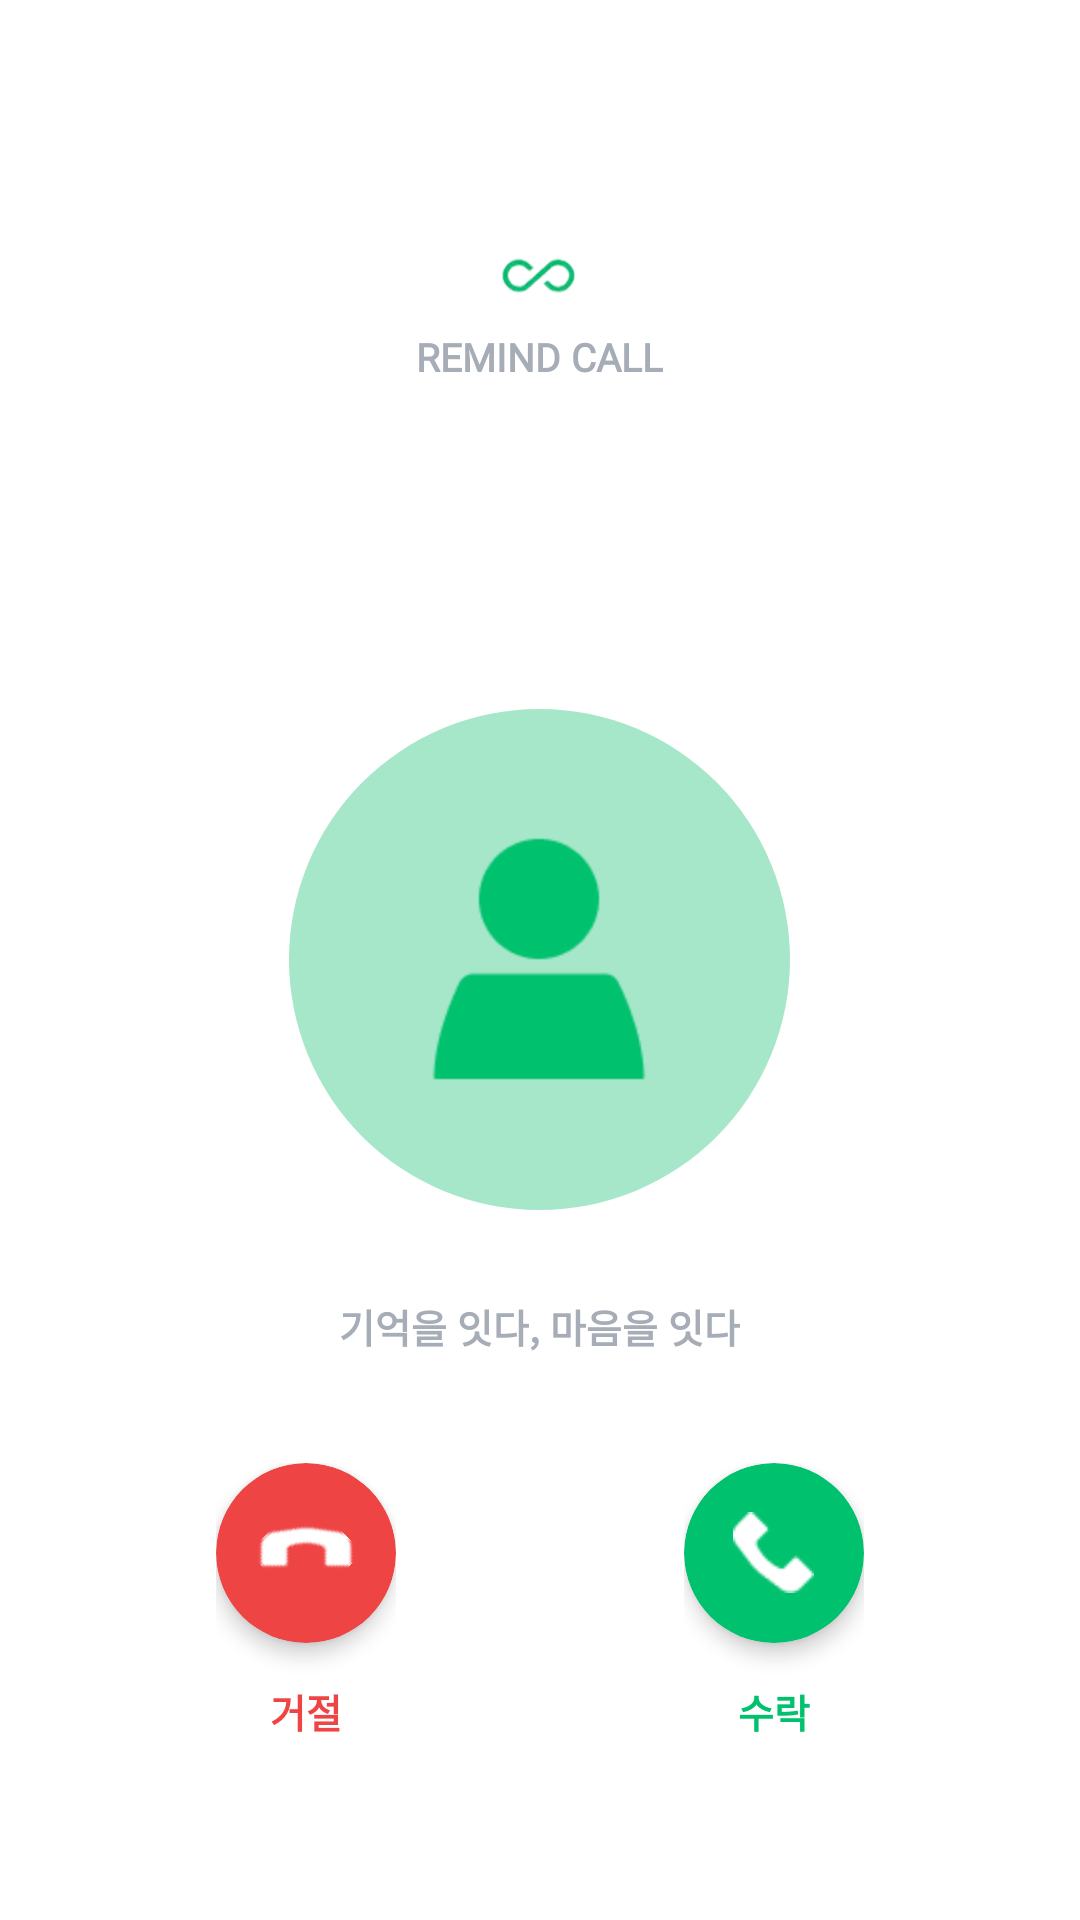

Locate icon controls on the screen. Image size 1080×1920, boxes as bbox=[x1, y1, x2, y2].
user: bbox=[433, 838, 645, 1080]
